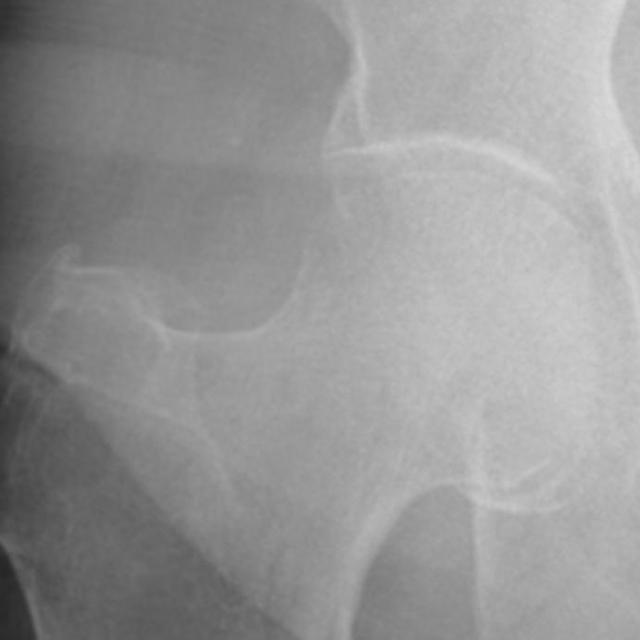Fitted_femural_head: (337, 172, 432, 337)
